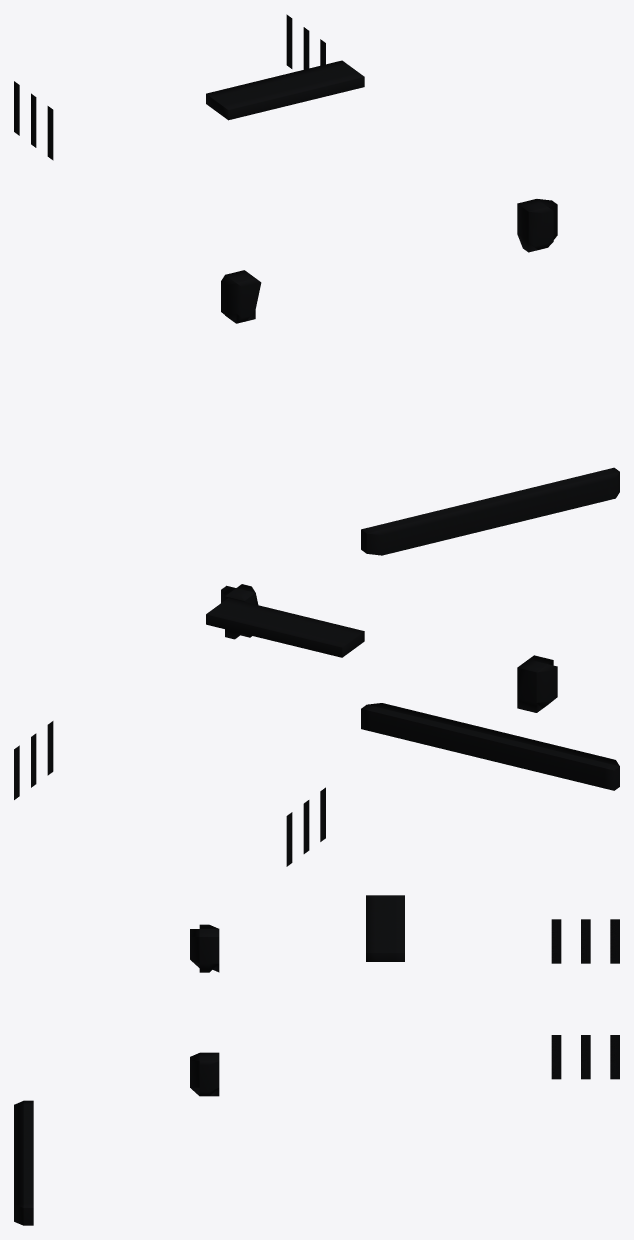
3 renders of one model, top to bottom at view 1: azimuth 30°, elevation 25°; view 2: azimuth 150°, elevation 25°; view 3: azimuth 270°, elevation 25°, orthographic. The views are drawn at different scales.
Size of the model in its own units: 2.72 by 2.24 by 4.96.
1 material, 1 textured.
